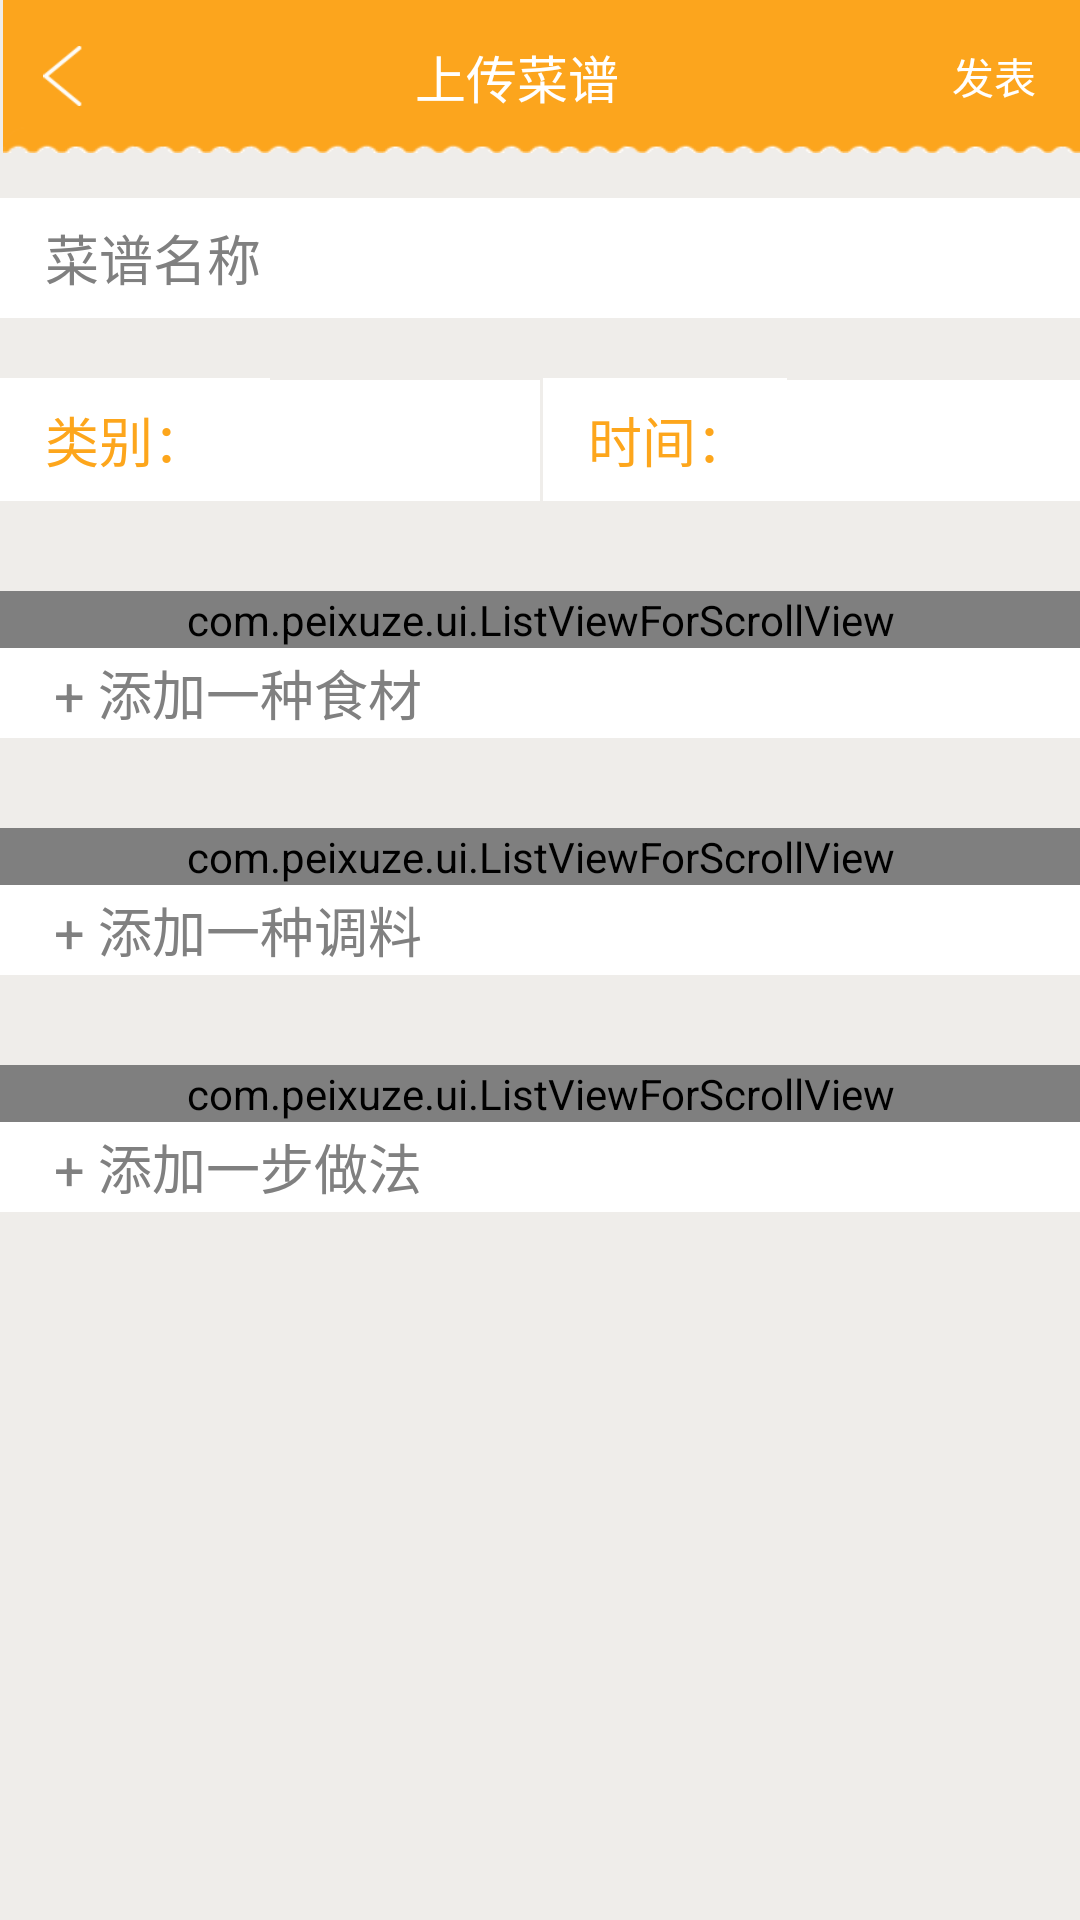

Icons on this 1080*1920 Android screen, each with the point to tap as (x,y):
imageview arrow back: (62,76)
